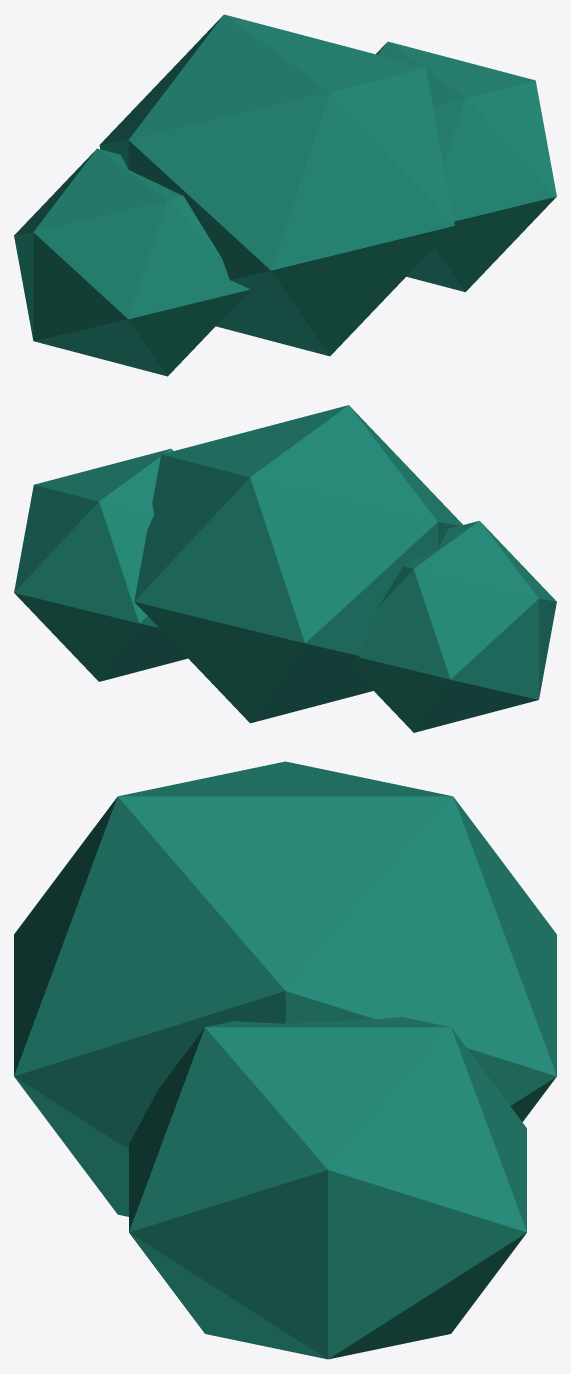
The model's file is bush.glb.
3 renders of one model, top to bottom at view 1: azimuth 30°, elevation 25°; view 2: azimuth 150°, elevation 25°; view 3: azimuth 270°, elevation 25°, orthographic. The views are drawn at different scales.
Visible parts, largest first — view 1: Bush; view 2: Bush; view 3: Bush.
Part boxes in pixels (box(x1,y1,x2,y2)): Bush: box(14, 14, 556, 376); Bush: box(14, 405, 556, 732); Bush: box(14, 761, 556, 1359).
Bounding box in the file's own units: 2.24 × 1.08 × 1.28.
